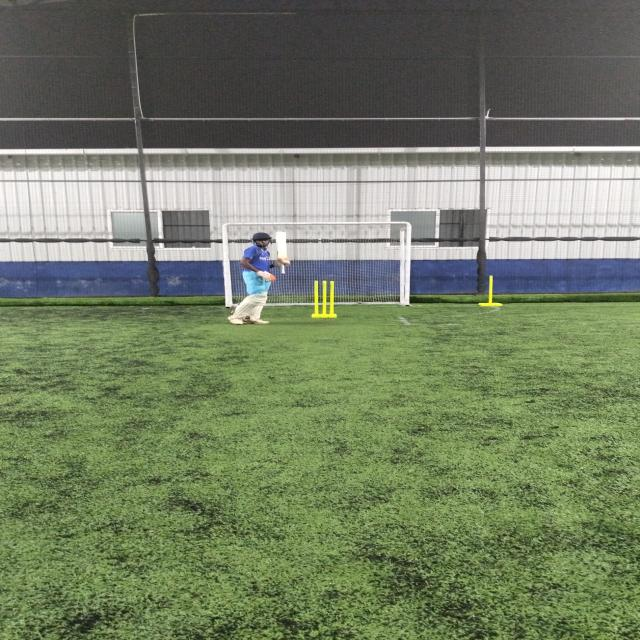stump: (310, 278, 342, 319)
